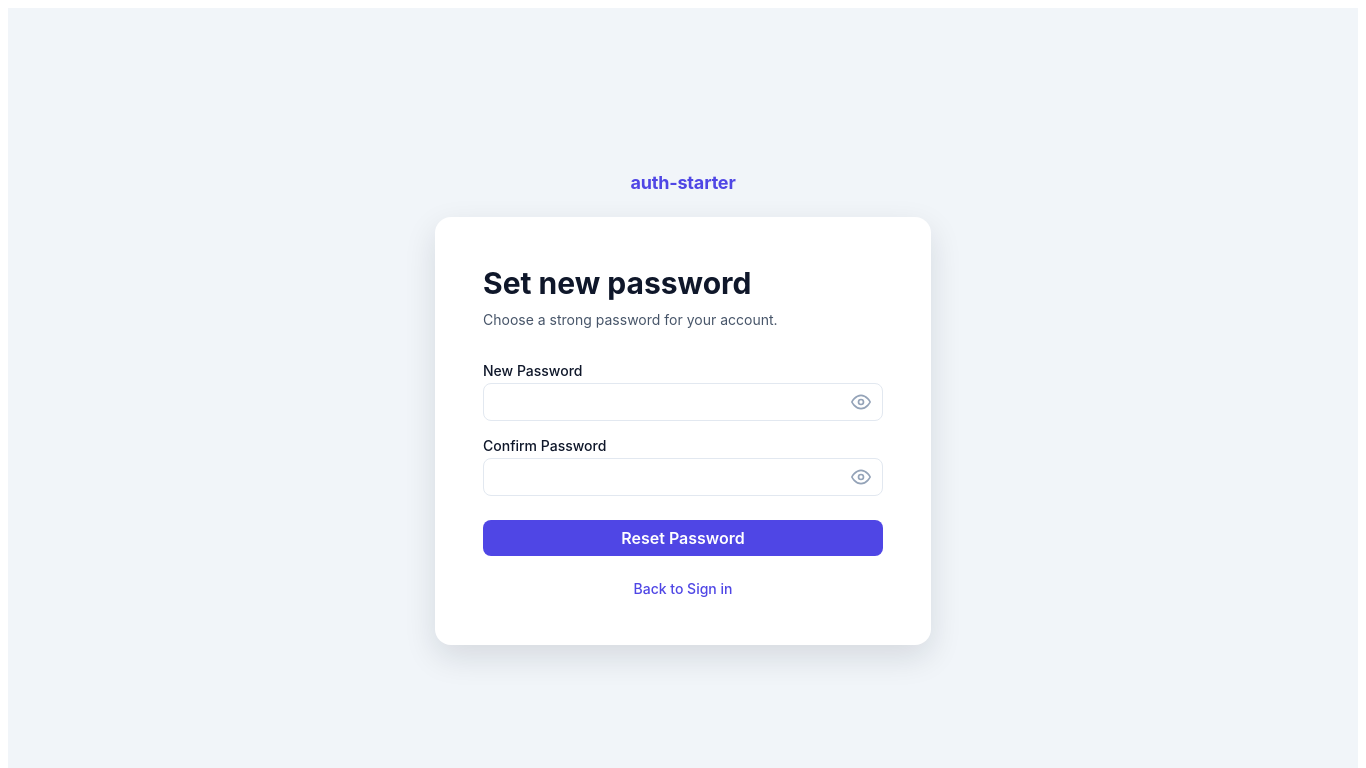
Scenario: Validation — on submit › shows all errors when submitted with empty fields
The width and height of the screenshot is (1366, 768).
Click the button "Reset Password" at (683, 538), box [483,520,883,556]
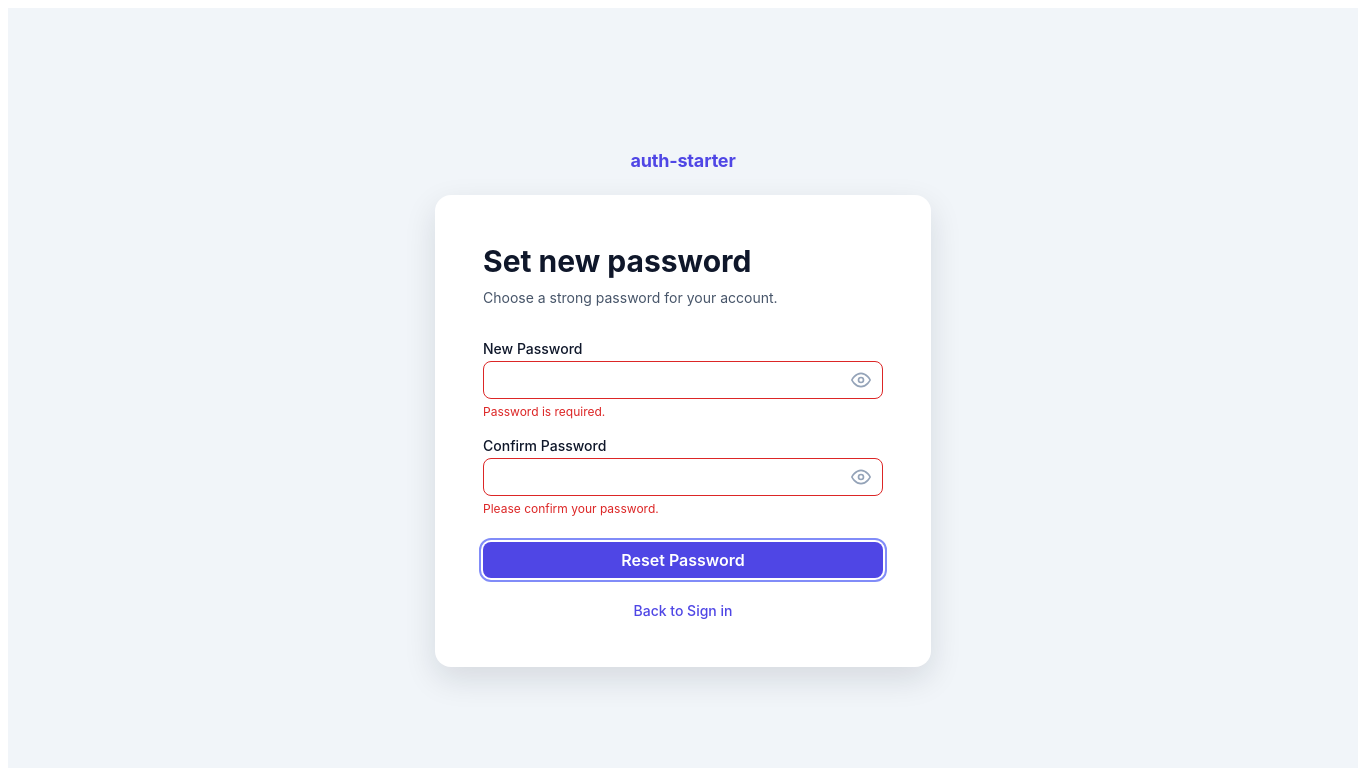
expect the text "Password is required." is shown: met, box [483,404,605,418]
expect the text "Please confirm your password." is shown: met, box [483,500,659,516]
